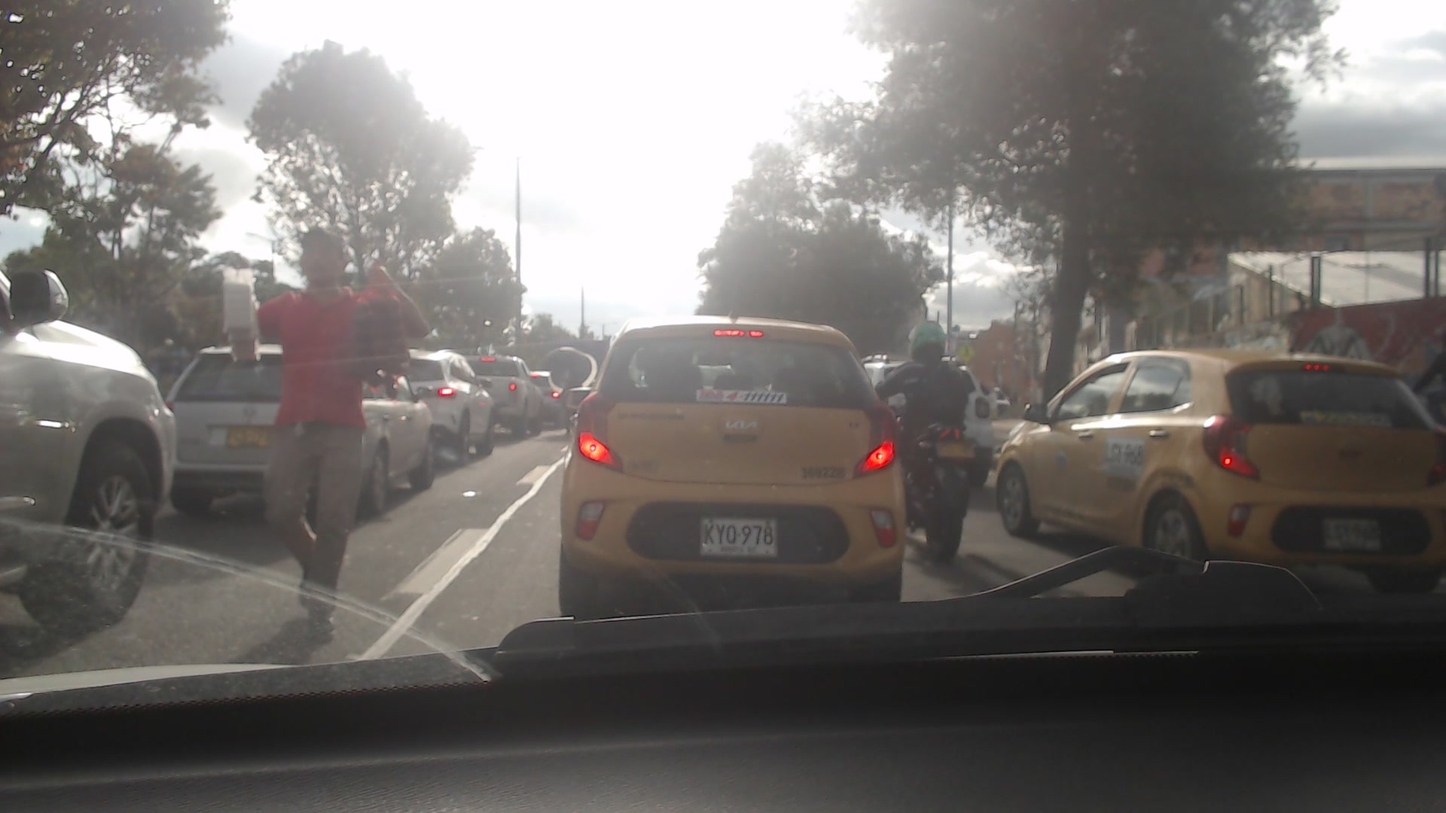car: (994, 353, 1446, 599), (554, 315, 904, 606), (404, 350, 498, 470), (457, 352, 551, 431)
motorcycle: (895, 423, 978, 551)
person: (235, 213, 389, 639), (896, 318, 969, 503)
